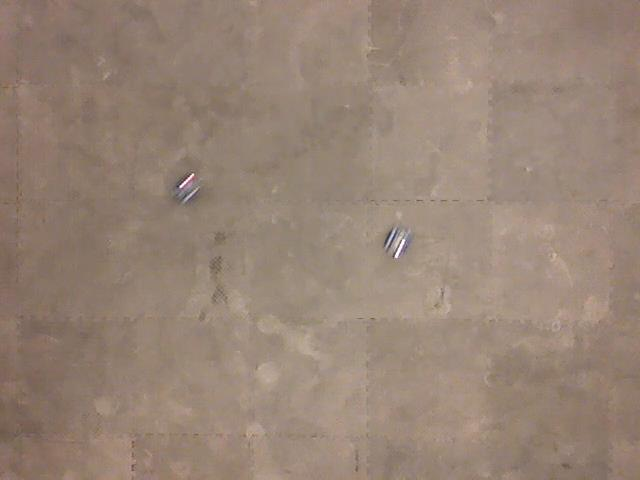Agent: (380, 224, 413, 260), (171, 170, 202, 205)
